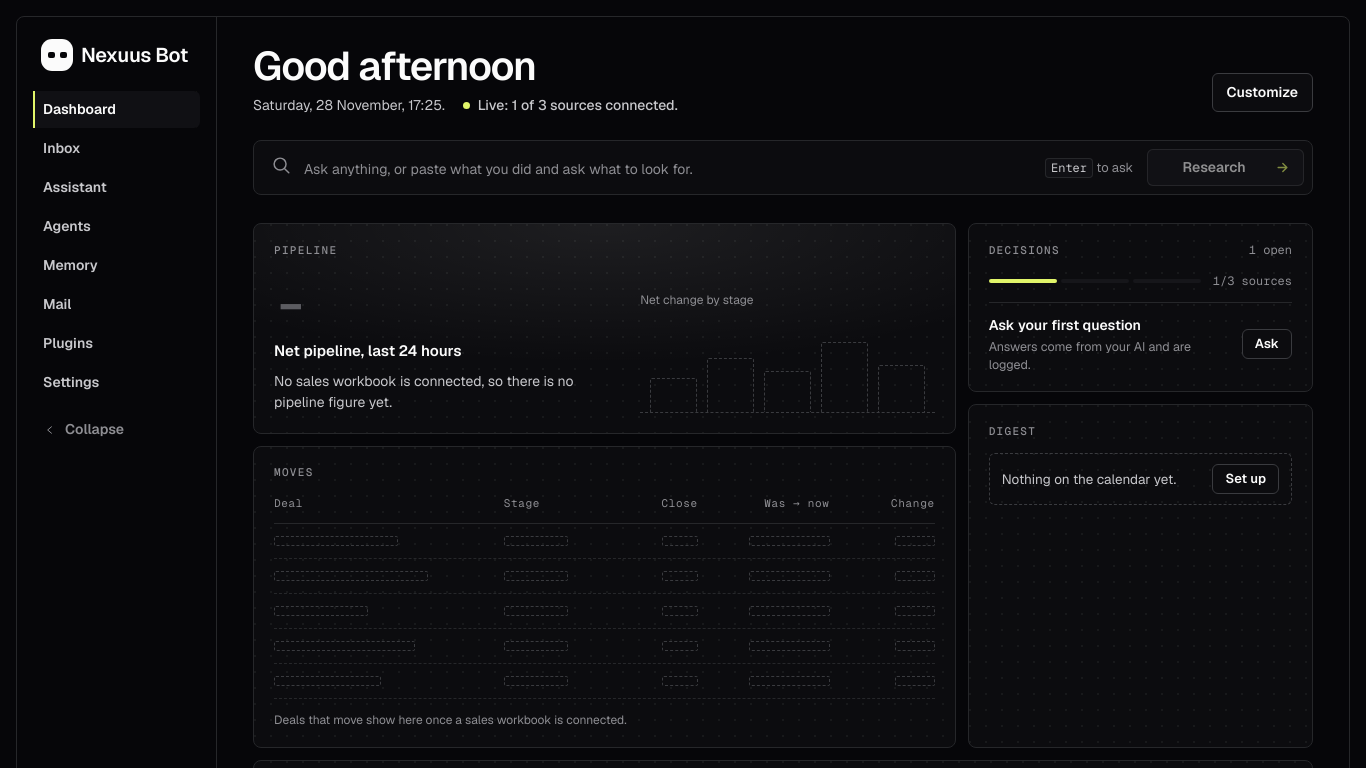
Scenario: a refused research answer › shows the server error instead of an empty answer
Replace the text in the text box named "Research question" with "What changed?" at {"x": 668, "y": 170}, box [304,153,1031,186]
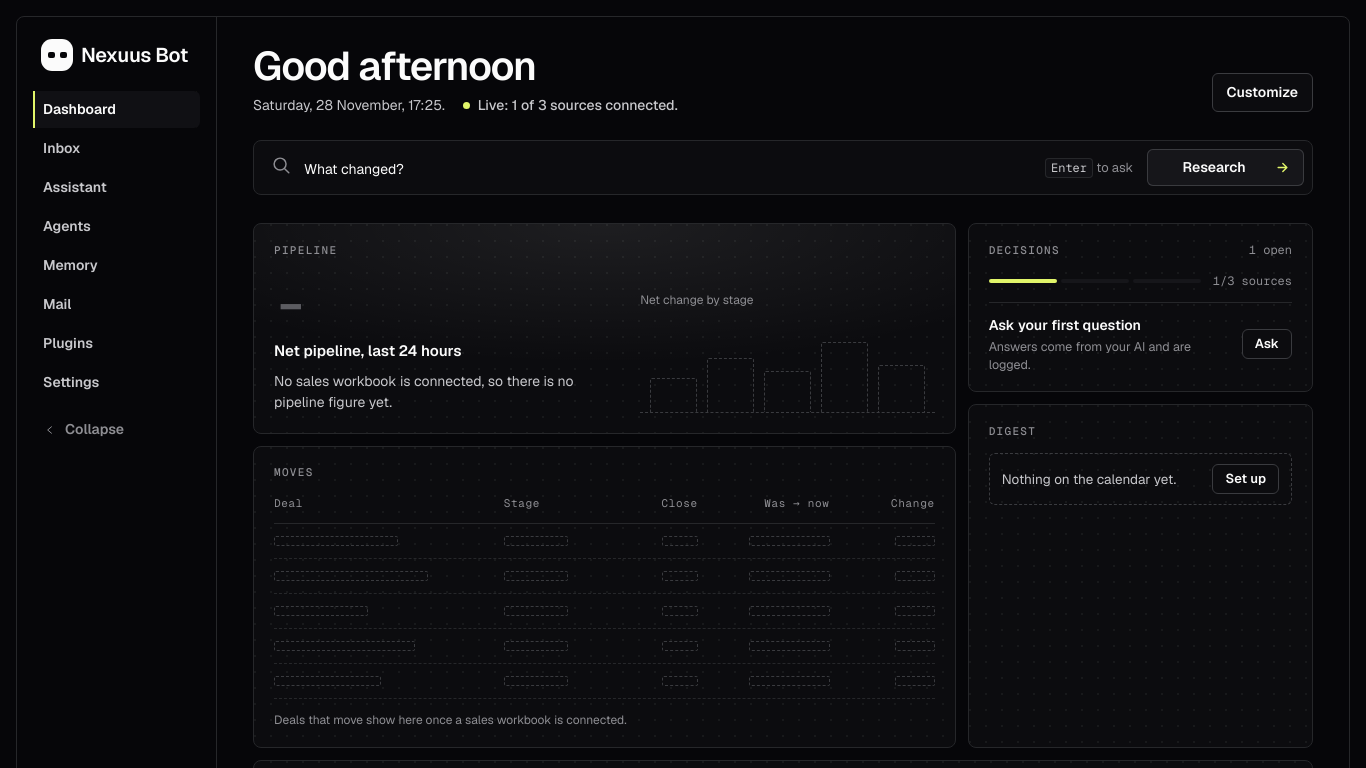
Click the button "Research".
click(1226, 168)  # box [1147,149,1304,186]
(page scrolled)
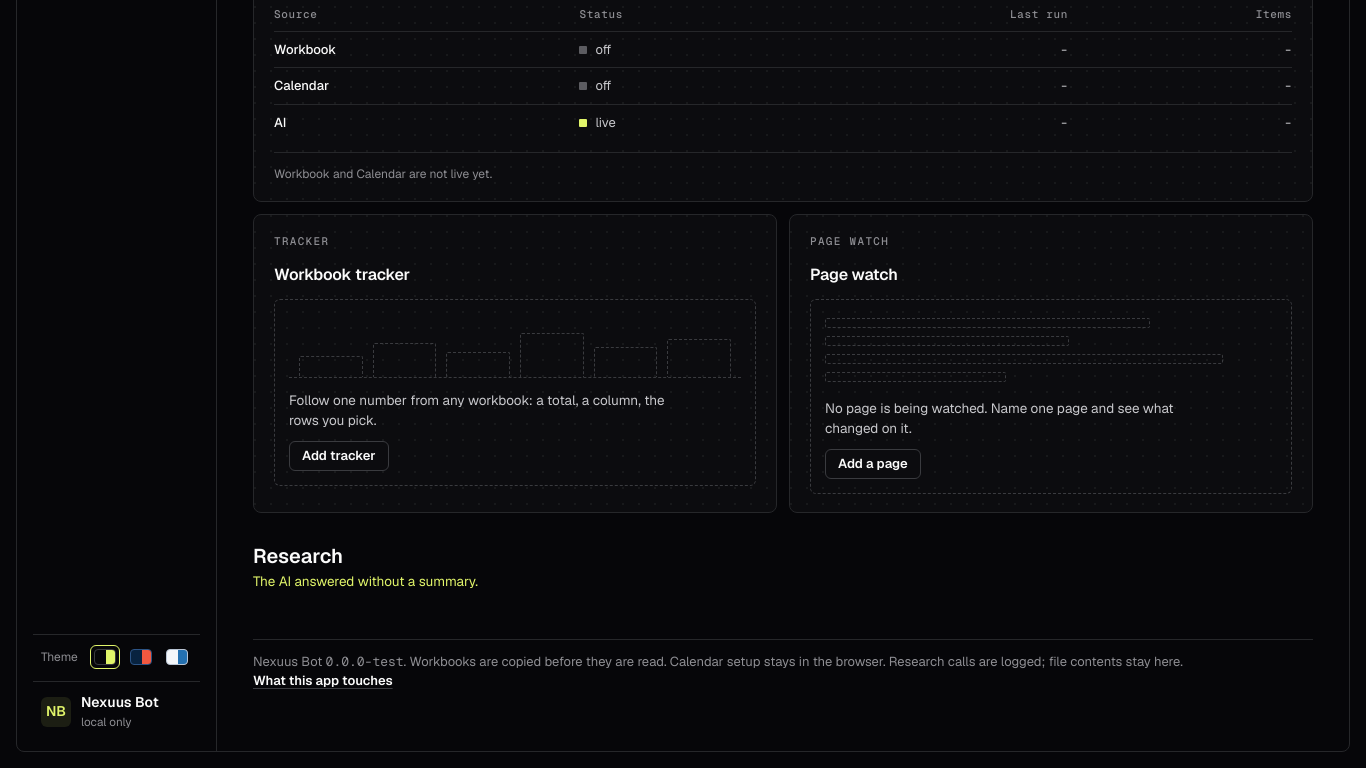
Check: the message reads "The AI answered without a summary.", box [253,572,478,590]
